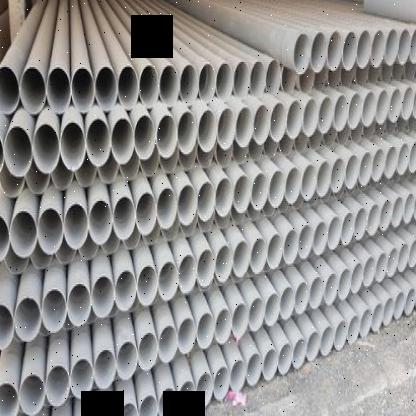pipe: (4, 125, 32, 176), (32, 124, 60, 173), (10, 210, 37, 257), (14, 297, 42, 342), (20, 67, 46, 114), (86, 118, 111, 166), (60, 122, 85, 170), (63, 204, 89, 250), (37, 208, 63, 254), (111, 117, 135, 165), (47, 67, 71, 114), (19, 373, 45, 416), (71, 67, 95, 113), (42, 289, 67, 332), (45, 365, 71, 406), (88, 200, 112, 244), (67, 283, 91, 327), (96, 66, 118, 111), (134, 115, 156, 160), (70, 358, 94, 399), (0, 64, 20, 113), (118, 66, 140, 110), (156, 114, 178, 158), (114, 196, 136, 239), (92, 276, 114, 319), (139, 65, 160, 109), (136, 192, 157, 235), (177, 110, 197, 155), (116, 341, 139, 380), (159, 64, 180, 106), (157, 261, 179, 301), (94, 349, 116, 389), (115, 270, 136, 311), (157, 187, 177, 230), (0, 163, 25, 197), (198, 109, 217, 153), (179, 63, 199, 104), (235, 105, 254, 148), (177, 185, 197, 225), (137, 265, 157, 305), (217, 108, 236, 150), (25, 163, 50, 194), (51, 159, 75, 191), (197, 182, 216, 222), (178, 254, 197, 294), (138, 332, 158, 370), (159, 325, 178, 363), (177, 318, 197, 354), (197, 249, 215, 288), (233, 175, 251, 213), (215, 245, 233, 283), (286, 100, 304, 138), (95, 157, 121, 183), (118, 152, 141, 181), (198, 63, 216, 100), (0, 381, 19, 416), (0, 303, 14, 350), (310, 32, 326, 73), (294, 34, 310, 75), (214, 307, 232, 343), (251, 173, 268, 211), (216, 178, 232, 218), (270, 102, 286, 142), (138, 149, 160, 178), (254, 105, 270, 144), (75, 162, 99, 188), (327, 30, 342, 71), (250, 237, 267, 273), (233, 241, 250, 277), (197, 313, 214, 349), (196, 372, 213, 408), (233, 61, 250, 97), (216, 63, 233, 99), (269, 170, 285, 207), (357, 30, 372, 69), (249, 61, 266, 95), (344, 154, 360, 190), (301, 164, 317, 200), (283, 229, 299, 265), (267, 233, 283, 269), (178, 381, 196, 413), (303, 98, 318, 136), (343, 31, 357, 71), (158, 387, 177, 416), (213, 140, 234, 166), (294, 281, 310, 315), (232, 303, 248, 337), (246, 353, 262, 387), (194, 142, 214, 169), (286, 166, 300, 204), (371, 30, 385, 68), (334, 94, 348, 132), (264, 293, 280, 326), (248, 297, 264, 330), (214, 367, 230, 400), (230, 360, 247, 391), (280, 286, 295, 321), (263, 348, 278, 383), (266, 59, 281, 94), (176, 146, 197, 171), (318, 96, 332, 133), (158, 147, 177, 174), (308, 277, 324, 309), (327, 216, 342, 250), (317, 161, 331, 197), (362, 91, 376, 127), (0, 213, 10, 263), (298, 224, 312, 259), (231, 136, 249, 163), (306, 330, 321, 362), (340, 212, 354, 246), (348, 93, 361, 129), (292, 338, 307, 369), (281, 64, 296, 95), (313, 222, 327, 255), (278, 342, 292, 375), (137, 394, 158, 416), (388, 89, 402, 122), (359, 152, 373, 185), (366, 203, 380, 235), (386, 29, 398, 66), (338, 267, 351, 301), (376, 90, 389, 124), (247, 135, 264, 161), (324, 273, 338, 304), (332, 157, 344, 193), (384, 146, 397, 179), (402, 86, 414, 120), (399, 28, 410, 65), (320, 326, 334, 355), (373, 147, 384, 183), (347, 315, 360, 345), (334, 321, 347, 351), (398, 143, 410, 175), (278, 133, 294, 157), (380, 200, 392, 231), (354, 208, 366, 239), (375, 252, 387, 283), (364, 257, 376, 288), (351, 263, 363, 293), (404, 286, 416, 316), (382, 297, 394, 327), (299, 69, 314, 93), (307, 129, 323, 151), (372, 303, 384, 332), (360, 308, 372, 336), (264, 134, 278, 158), (294, 131, 308, 154), (336, 123, 350, 146), (349, 122, 363, 145), (392, 196, 402, 228), (322, 127, 338, 147), (387, 248, 398, 277), (341, 66, 356, 87), (404, 193, 414, 224), (394, 291, 405, 319), (398, 243, 408, 273), (327, 68, 342, 88), (356, 63, 368, 87), (313, 69, 327, 89), (380, 63, 394, 83), (409, 26, 416, 65), (408, 140, 416, 174), (408, 238, 416, 268), (368, 63, 380, 83), (392, 62, 404, 81), (404, 61, 416, 80)
